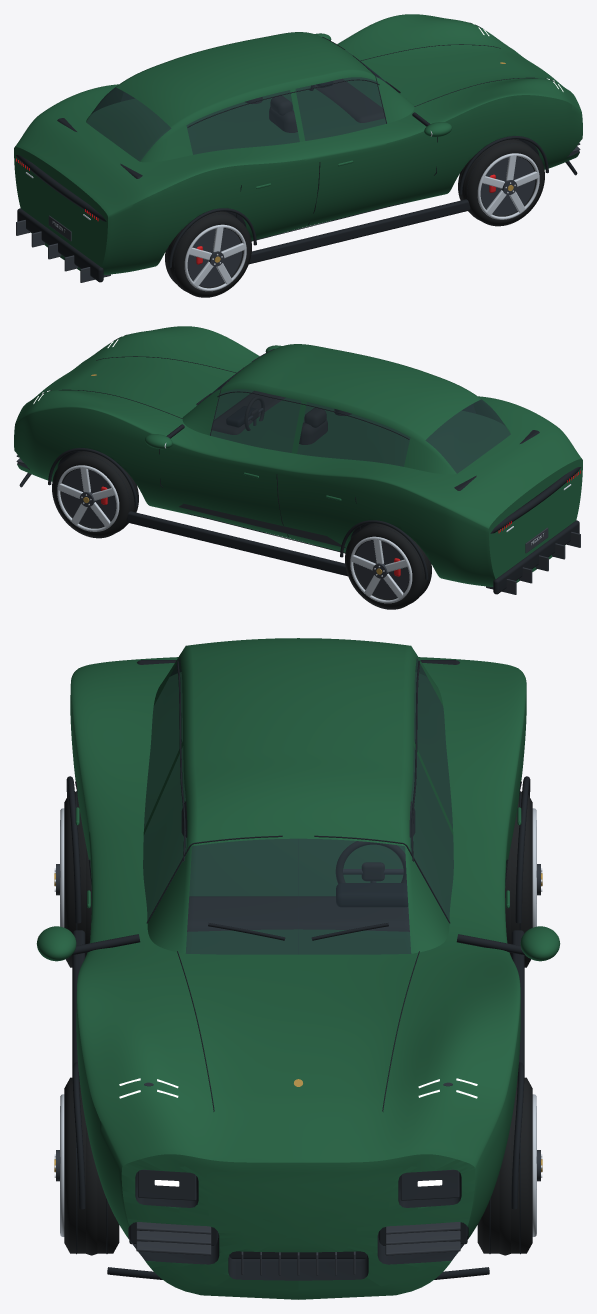
The model's file is macan-4s.glb.
The picture shows the model from 3 angles, top to bottom: view 1: azimuth 30°, elevation 25°; view 2: azimuth 150°, elevation 25°; view 3: azimuth 270°, elevation 25°; orthographic projection. The views are drawn at different scales.
Visible parts, largest first — view 1: macan-4s • body details.008, wheel_FR.044, wheel_RR.044; view 2: macan-4s • body details.008, wheel_FL.044, wheel_RL.044; view 3: macan-4s • body details.008, wheel_FL.044, wheel_FR.044, wheel_RR.044, wheel_RL.044, steering_wheel.012.
Boxes of the visible parts, x1=… form: macan-4s • body details.008: x1=14, y1=14, x2=582, y2=282; wheel_FR.044: x1=458, y1=139, x2=544, y2=226; wheel_RR.044: x1=165, y1=211, x2=251, y2=297; macan-4s • body details.008: x1=14, y1=326, x2=582, y2=594; wheel_FL.044: x1=52, y1=451, x2=138, y2=538; wheel_RL.044: x1=345, y1=523, x2=431, y2=609; macan-4s • body details.008: x1=36, y1=638, x2=560, y2=1299; wheel_FL.044: x1=477, y1=1077, x2=542, y2=1255; wheel_FR.044: x1=54, y1=1077, x2=119, y2=1255; wheel_RR.044: x1=54, y1=791, x2=91, y2=967; wheel_RL.044: x1=505, y1=791, x2=542, y2=967; steering_wheel.012: x1=336, y1=841, x2=406, y2=883.
Bounding box in the file's own units: 4.93 × 1.63 × 2.24.
